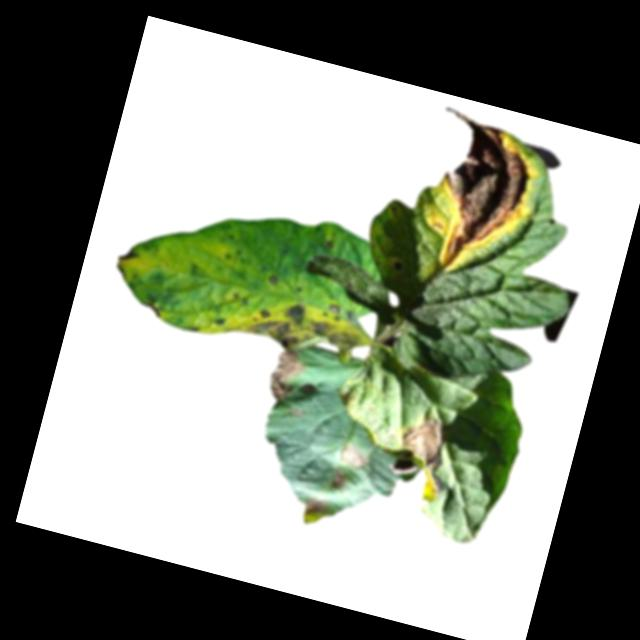Early_blight: (405, 104, 546, 277), (227, 276, 376, 365), (387, 409, 459, 504), (266, 347, 304, 403), (113, 244, 140, 277), (304, 495, 329, 522), (337, 444, 363, 469), (329, 468, 348, 490), (287, 405, 308, 422)
